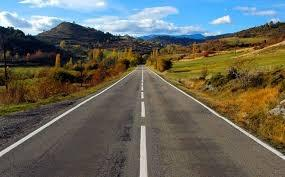road: (0, 66, 284, 176)
